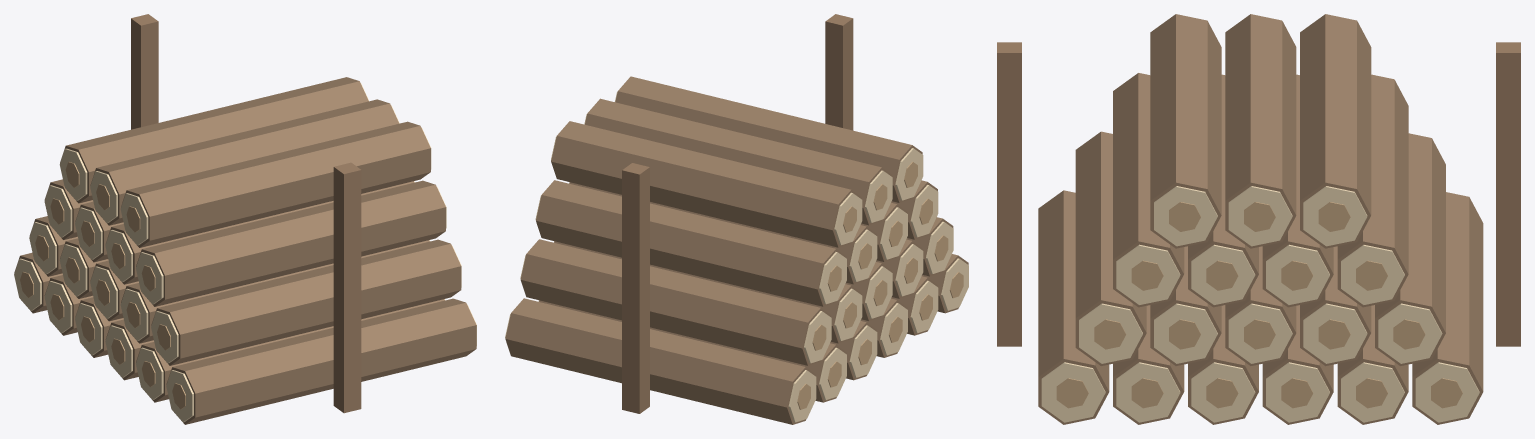
The model's file is Woodpile_Stack.fbx.
3 views of the same model, side by side, from view 1: azimuth 30°, elevation 25°; view 2: azimuth 150°, elevation 25°; view 3: azimuth 270°, elevation 25° (orthographic). The views are drawn at different scales.
Visible parts, largest first — view 1: Woodpile_Stack_Mesh; view 2: Woodpile_Stack_Mesh; view 3: Woodpile_Stack_Mesh.
Part boxes in pixels (<box>): Woodpile_Stack_Mesh: <box>14,14,476,424</box>; Woodpile_Stack_Mesh: <box>505,14,968,424</box>; Woodpile_Stack_Mesh: <box>997,14,1520,424</box>.
Bounding box in the file's own units: 1.63 × 1.3 × 2.1.
